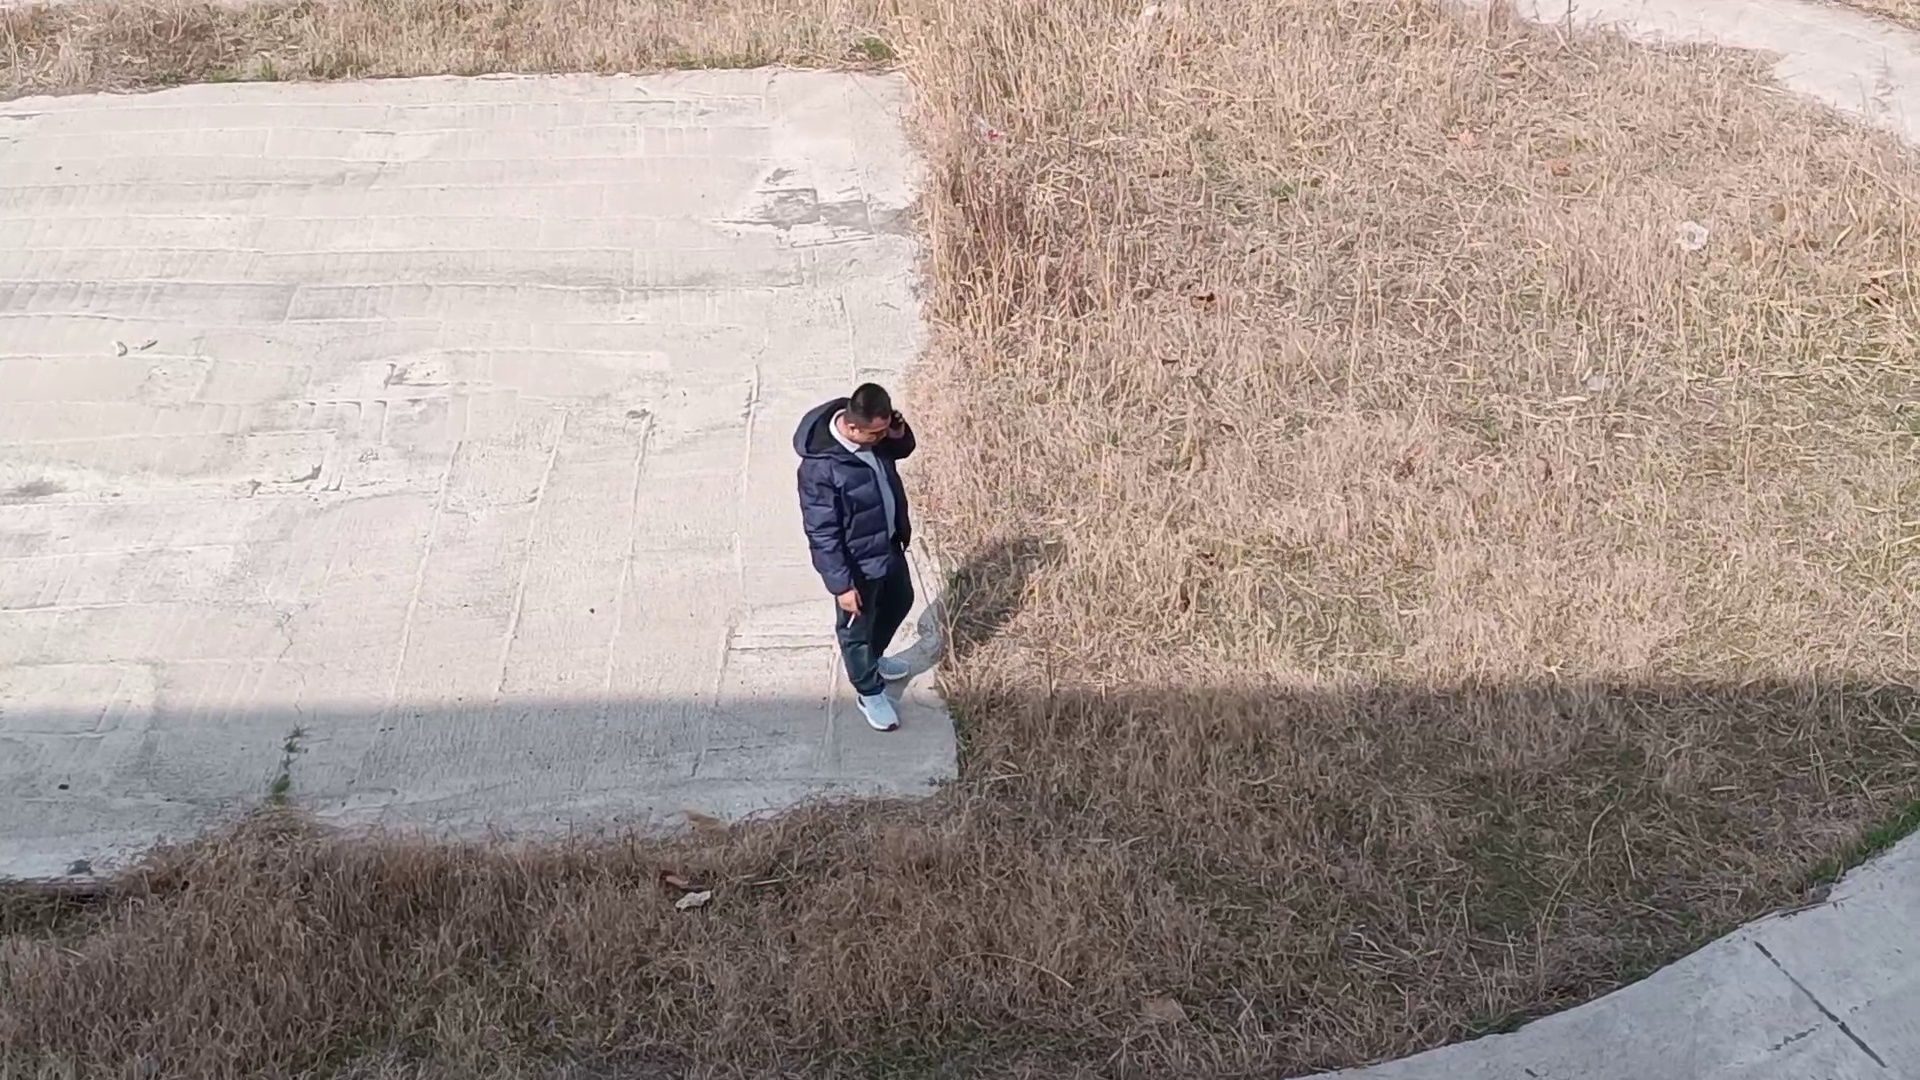phone: (833, 375, 913, 460)
